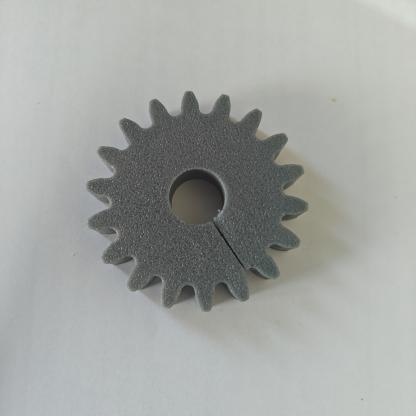defect: (66, 177, 147, 240), (227, 123, 294, 197)
gear: (59, 58, 309, 321)
